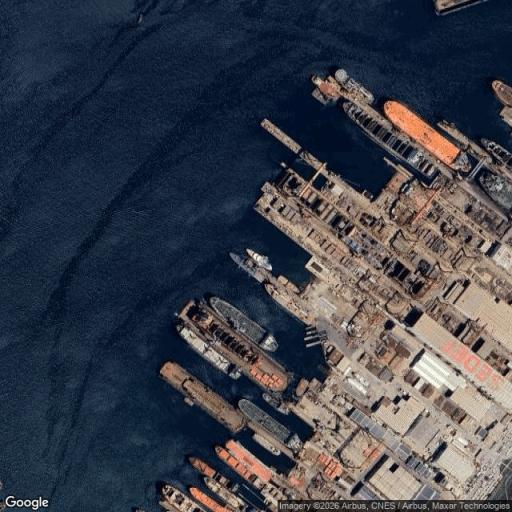ship: (179, 300, 290, 392), (343, 102, 439, 179), (384, 100, 470, 171), (160, 362, 244, 431), (209, 297, 277, 351), (176, 324, 240, 379), (239, 399, 301, 451), (216, 446, 264, 488), (266, 285, 314, 326), (226, 440, 271, 482), (188, 457, 237, 490), (204, 477, 247, 511), (335, 69, 374, 103), (478, 170, 511, 210), (160, 484, 206, 511), (189, 487, 233, 511), (229, 254, 264, 282), (482, 139, 511, 171), (434, 0, 487, 15), (252, 434, 281, 455), (188, 456, 216, 477), (246, 249, 271, 271), (263, 393, 289, 414), (492, 80, 511, 107), (278, 274, 301, 294), (295, 378, 311, 396)
